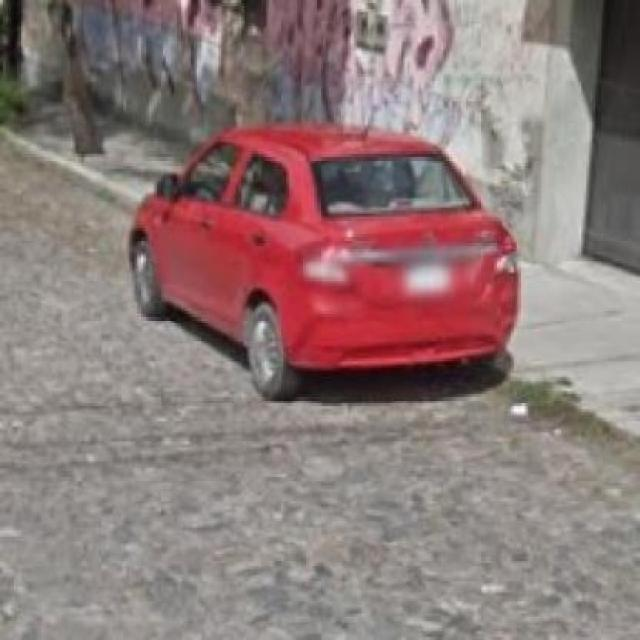car: (131, 110, 527, 408)
